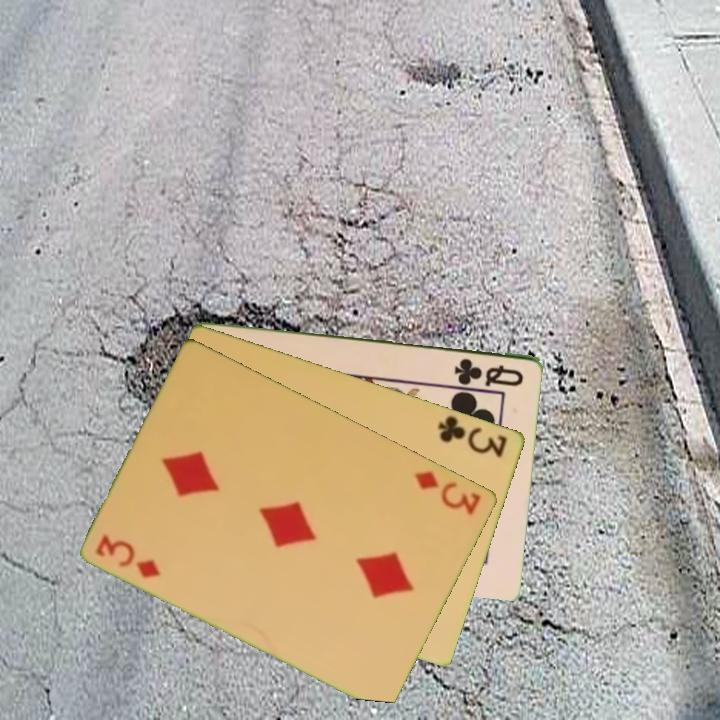3c: (434, 412, 511, 460)
3d: (411, 466, 485, 518), (92, 531, 165, 581)
Qc: (451, 354, 527, 389)
